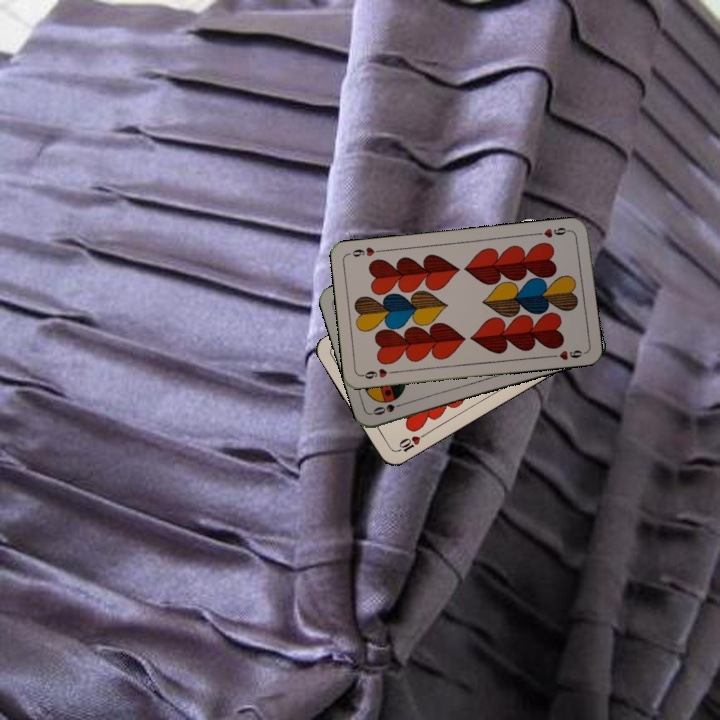H10: (391, 429, 428, 455)
H9: (358, 364, 398, 381), (533, 223, 573, 240)
SO: (369, 398, 409, 418)
